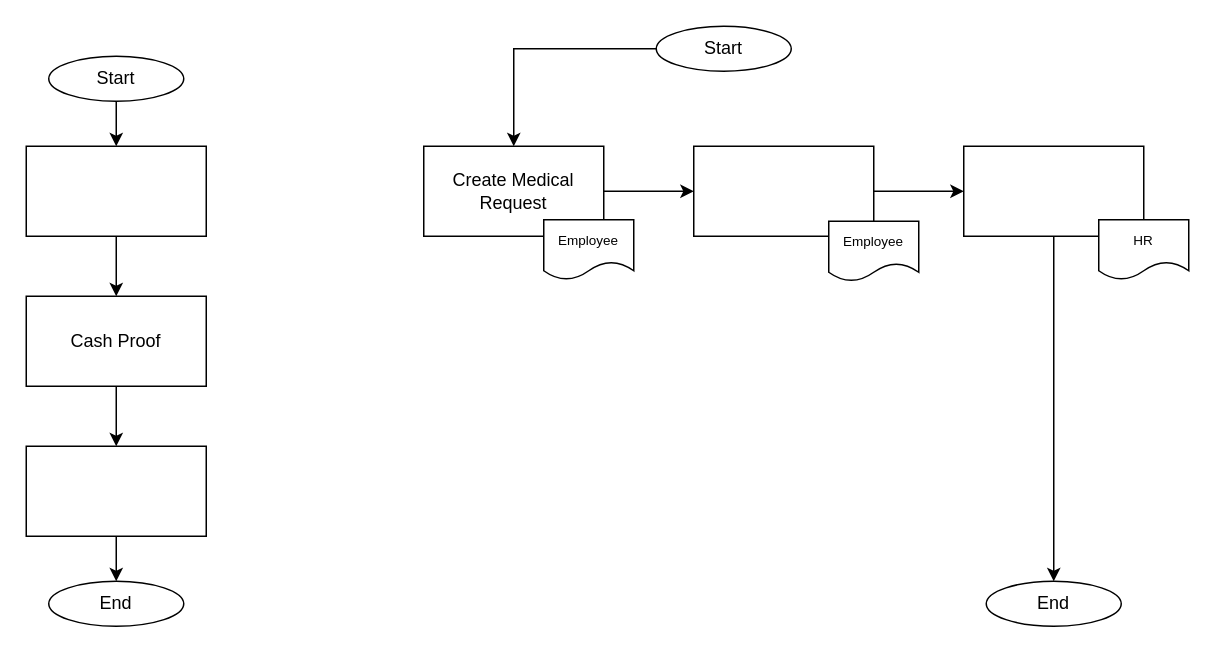
Some shapes in this 1215 by 653 pixel diagram are drawn without their labels. The shapes that lost their labels are listed below. From the top down, each one's centre as x and y in pixels, then its label:
At [115,190]: "Medical Request".
At [783,190]: "Send Medical Request to HR".
At [1053,190]: "Response Medical Request".
At [115,490]: "Bank Transfer".
